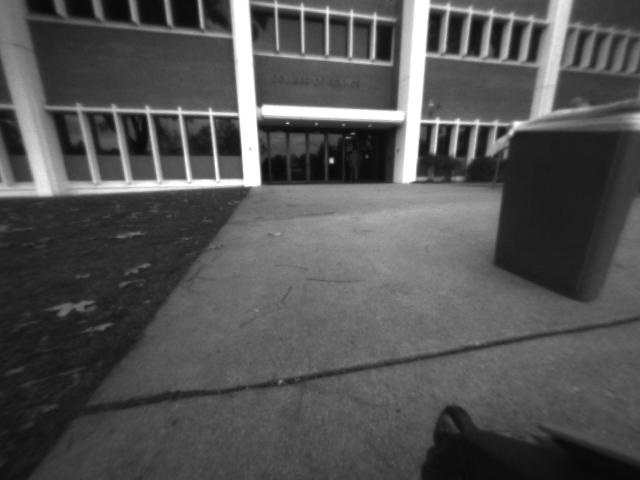trashcan: (486, 90, 640, 311)
